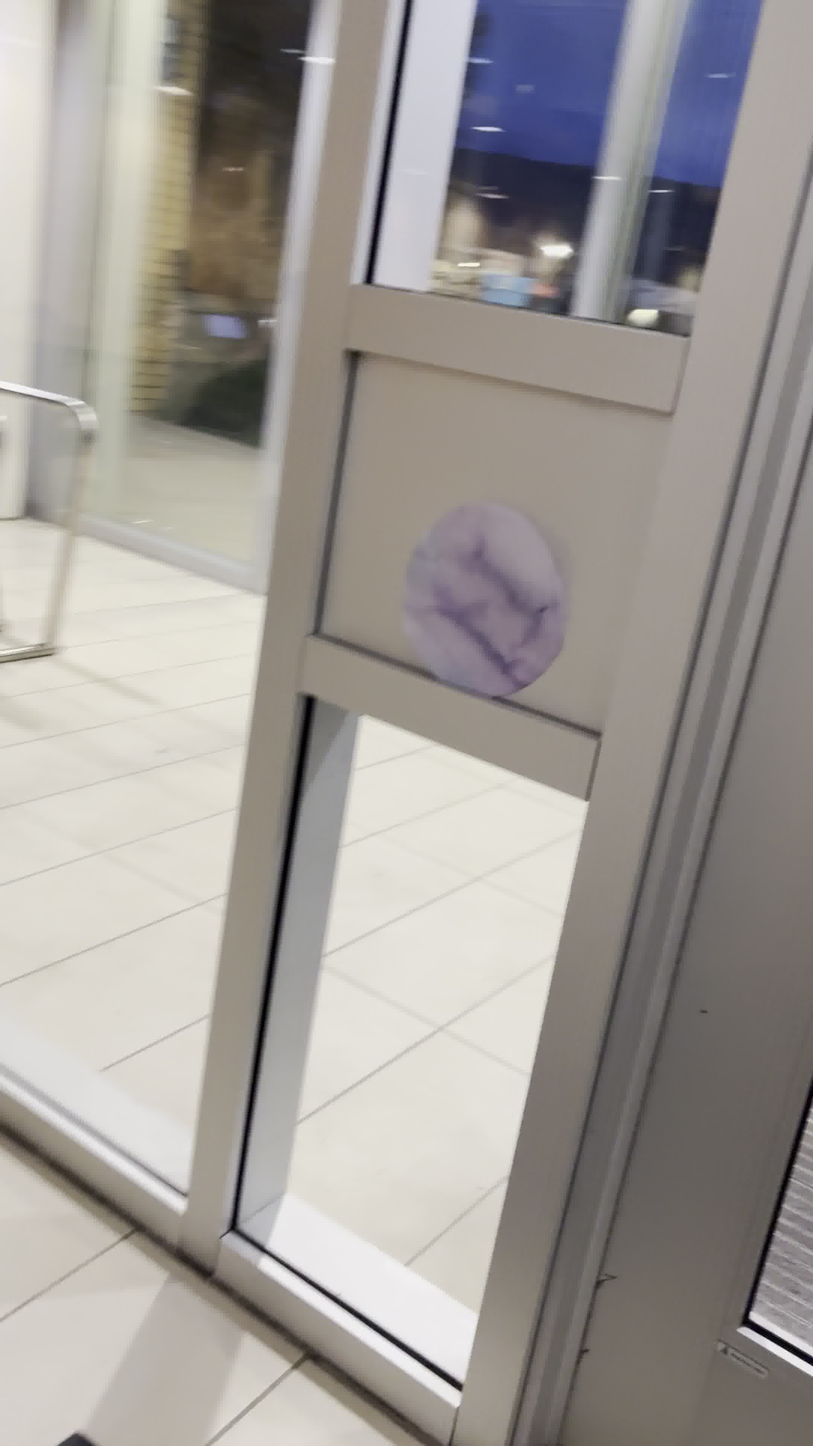Target: (397, 496, 572, 700)
